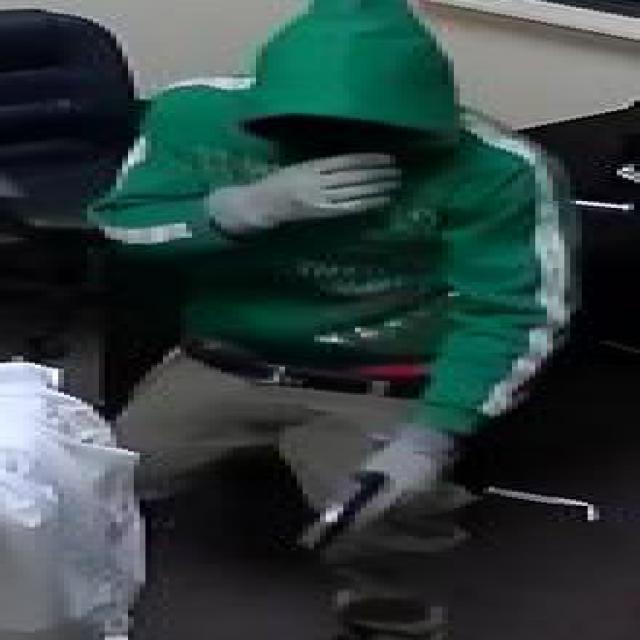Gun: (297, 458, 442, 546)
